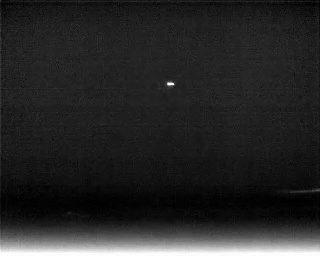AIRPLANE: (165, 79, 176, 89)
